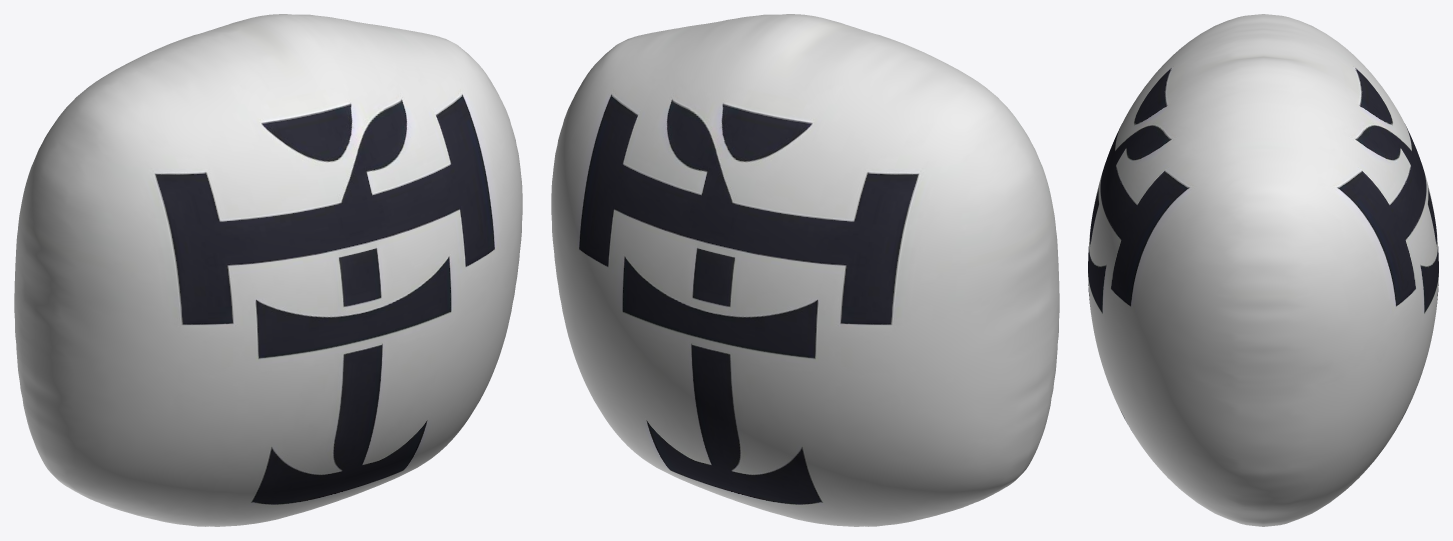
File: mm_project.glb
3 renders of one model, left to right at view 1: azimuth 30°, elevation 25°; view 2: azimuth 150°, elevation 25°; view 3: azimuth 270°, elevation 25°, orthographic. The views are drawn at different scales.
Size of the model in its own units: 6.22 by 6.02 by 4.46.
Materials: 1 (1 with a texture image).
